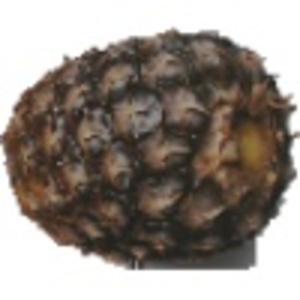abacaxi: (6, 25, 286, 260)
